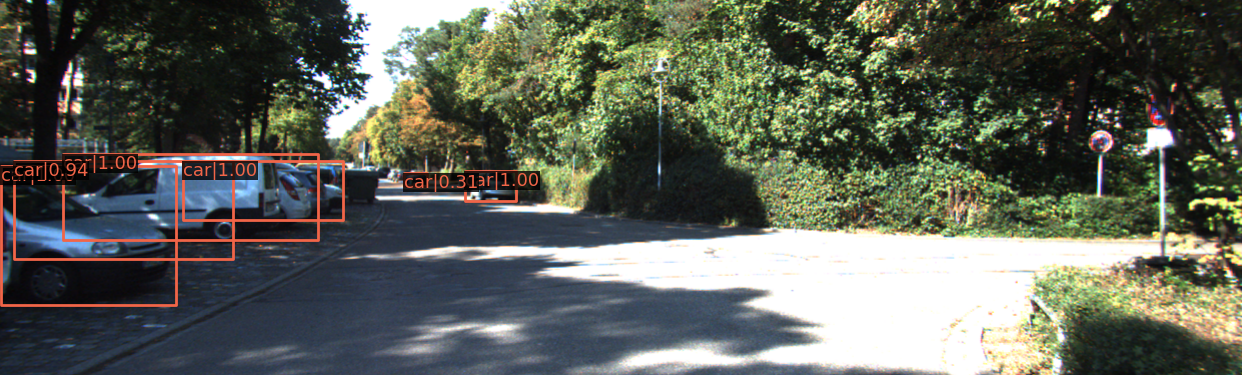car: (1, 138, 186, 309), (55, 156, 284, 249), (127, 175, 313, 241), (182, 174, 334, 228), (470, 172, 517, 204)
